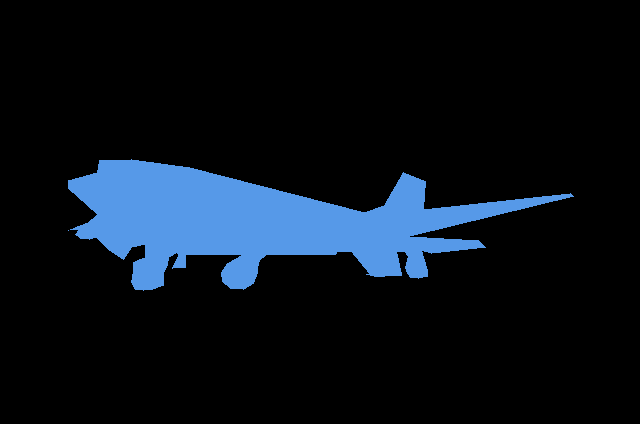Airplane: (68, 159, 574, 291)
